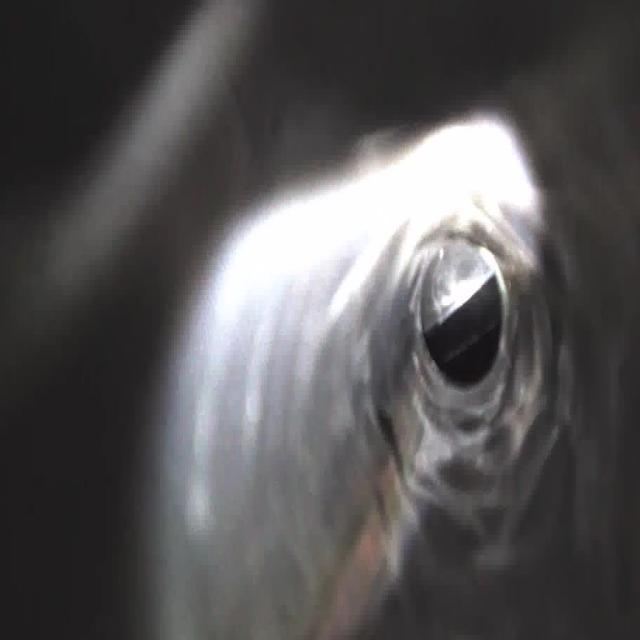crack: (498, 426, 578, 549), (514, 276, 586, 402), (412, 428, 487, 544)
